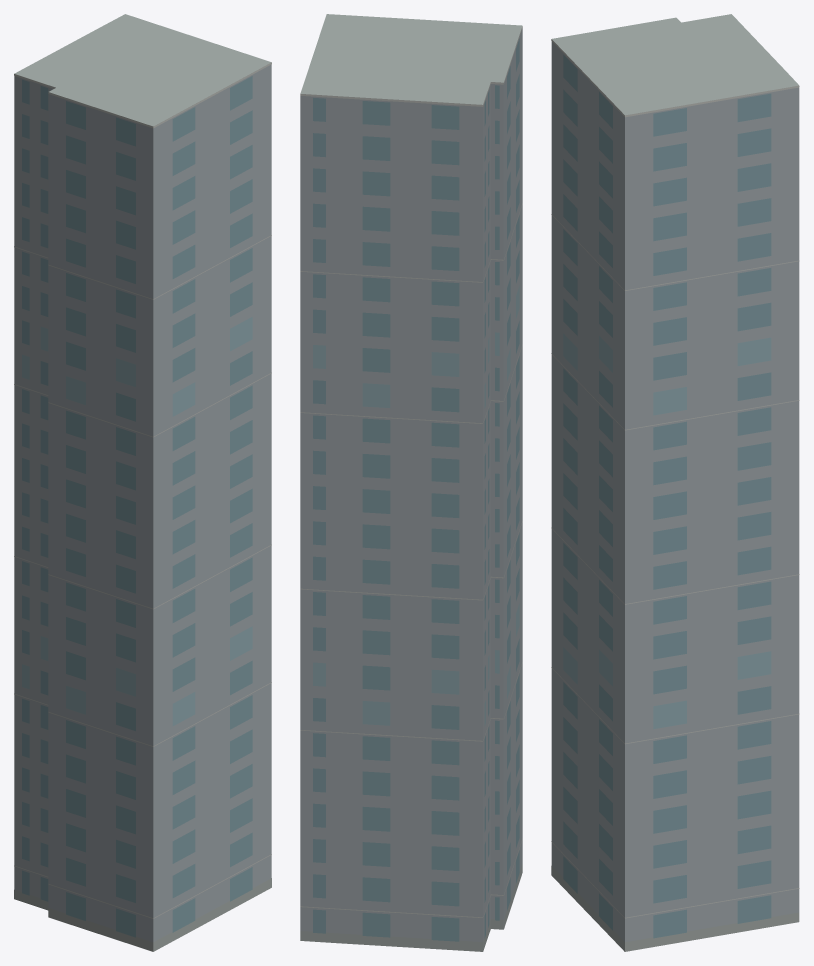
The model's file is residential-01d038aa-9d47-43dc-a195-a26dd0dedb8c.glb.
3 views of the same model, side by side, from view 1: azimuth 30°, elevation 25°; view 2: azimuth 150°, elevation 25°; view 3: azimuth 270°, elevation 25° (orthographic). The views are drawn at different scales.
Parts seen in each view (by area): view 1: residential-01d038aa-9d47-43dc-a195-a26dd0dedb8c.tmp; view 2: residential-01d038aa-9d47-43dc-a195-a26dd0dedb8c.tmp; view 3: residential-01d038aa-9d47-43dc-a195-a26dd0dedb8c.tmp.
Boxes of the visible parts, x1,y1,x2,y2 form: residential-01d038aa-9d47-43dc-a195-a26dd0dedb8c.tmp: [14, 14, 271, 951]; residential-01d038aa-9d47-43dc-a195-a26dd0dedb8c.tmp: [300, 14, 522, 951]; residential-01d038aa-9d47-43dc-a195-a26dd0dedb8c.tmp: [551, 14, 799, 951].
Size of the model in its own units: 26.54 by 102 by 27.42.
